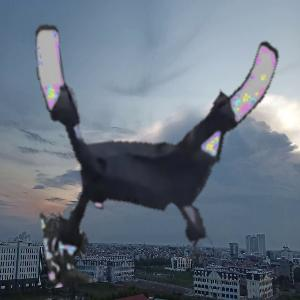drone: (29, 7, 294, 272)
